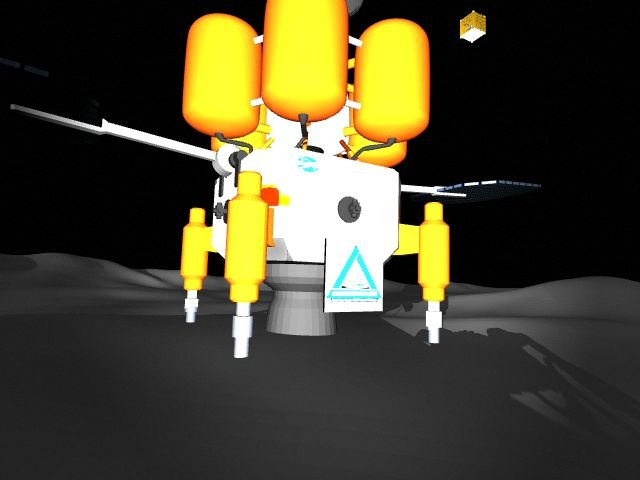basemarker: (322, 245, 385, 304)
